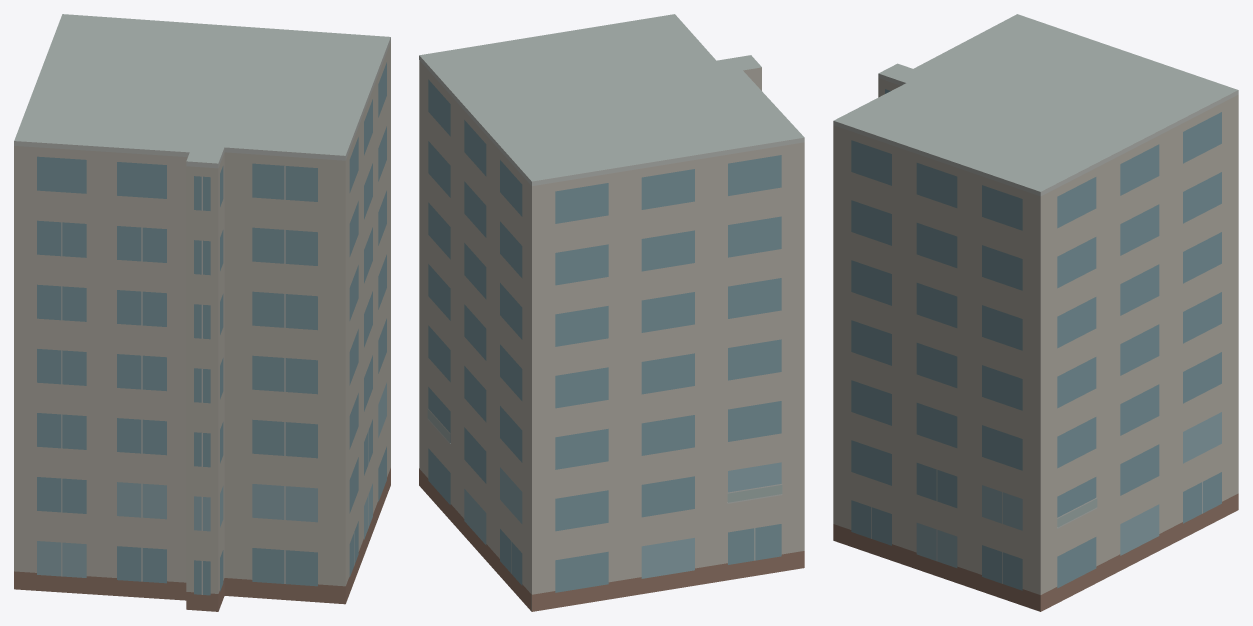
Rendered from survey-upis-32842803.glb.
3 renders of one model, left to right at view 1: azimuth 30°, elevation 25°; view 2: azimuth 150°, elevation 25°; view 3: azimuth 270°, elevation 25°, orthographic. The views are drawn at different scales.
Parts seen in each view (by area): view 1: survey-upis-32842803.tmp; view 2: survey-upis-32842803.tmp; view 3: survey-upis-32842803.tmp.
Part boxes in pixels (x1,y1,x2,y2): survey-upis-32842803.tmp: [14, 14, 390, 611]; survey-upis-32842803.tmp: [419, 14, 804, 611]; survey-upis-32842803.tmp: [833, 14, 1238, 611].
Bounding box in the file's own units: 20.45 × 22.5 × 19.67.
